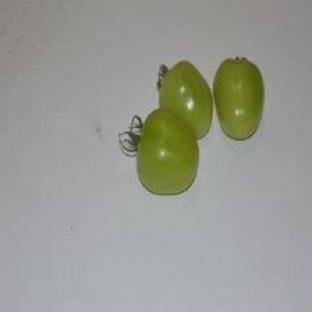Tomato: (134, 109, 199, 194), (159, 60, 213, 139), (214, 58, 264, 139)
